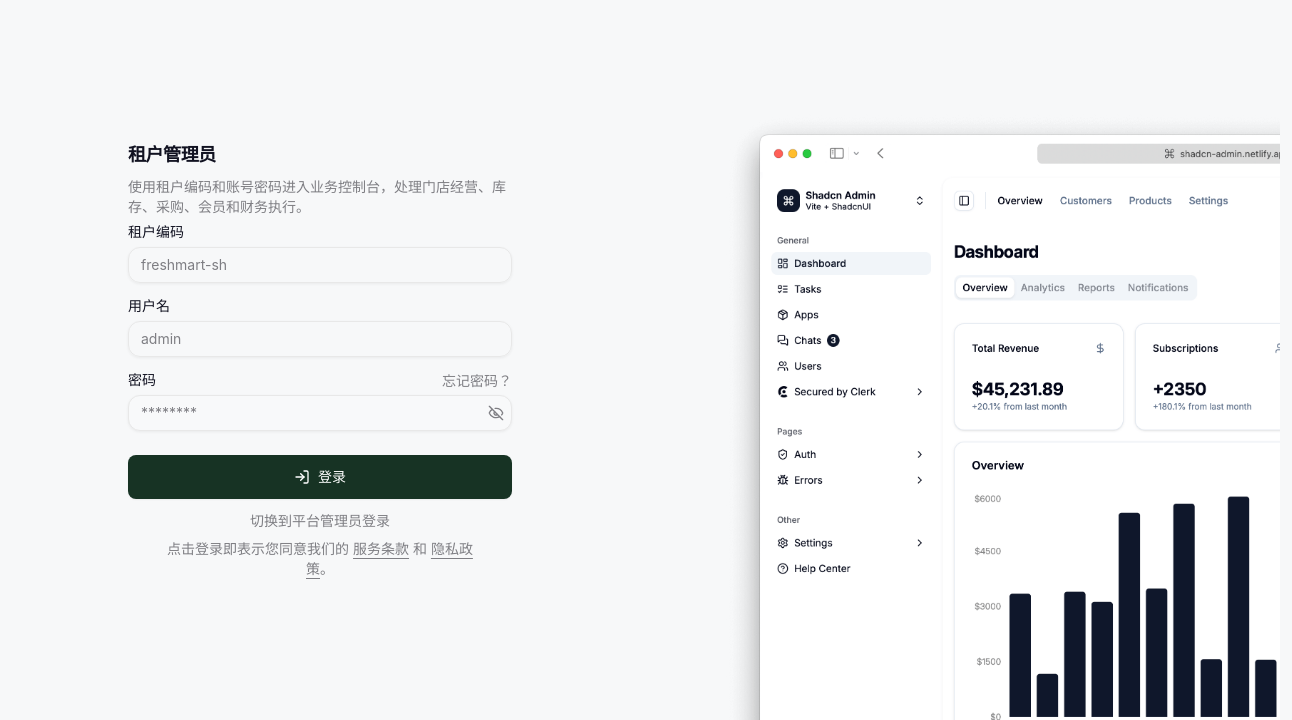
sign in page › switches the form in place when clicking the lightweight platform entry
Click the button "切换到平台管理员登录" at (320, 521), box [250, 511, 390, 531]
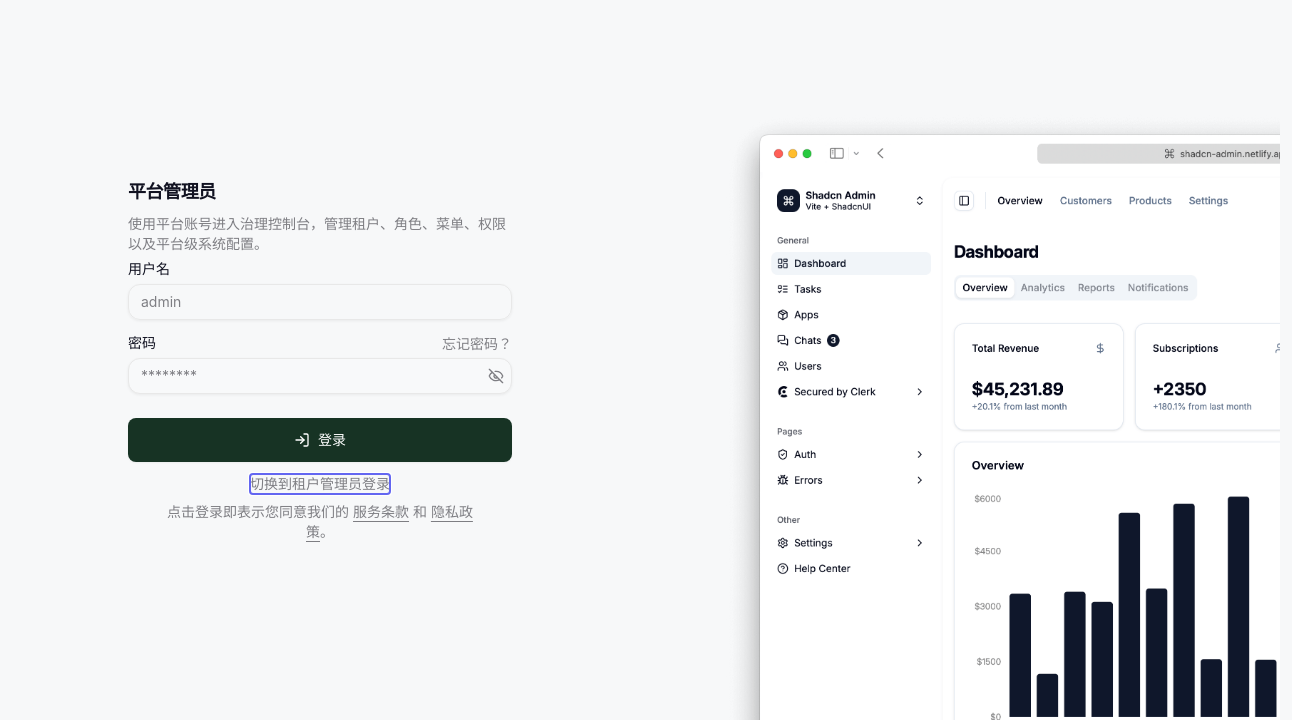
Check: the heading "平台管理员" is shown, box [128, 181, 216, 202]
Check: the text "使用平台账号进入治理控制台，管理租户、角色、菜单、权限以及平台级系统配置。" is shown, box [128, 214, 512, 254]
Check: the text labelled "租户编码" is gone
